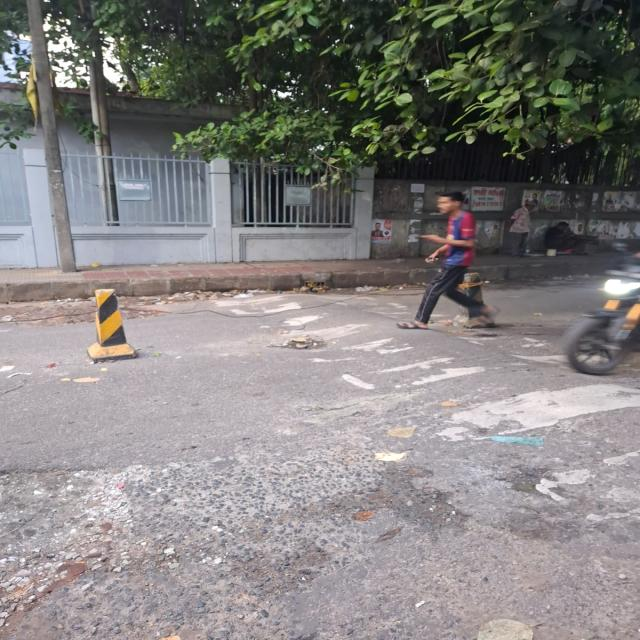person: (396, 192, 494, 331)
